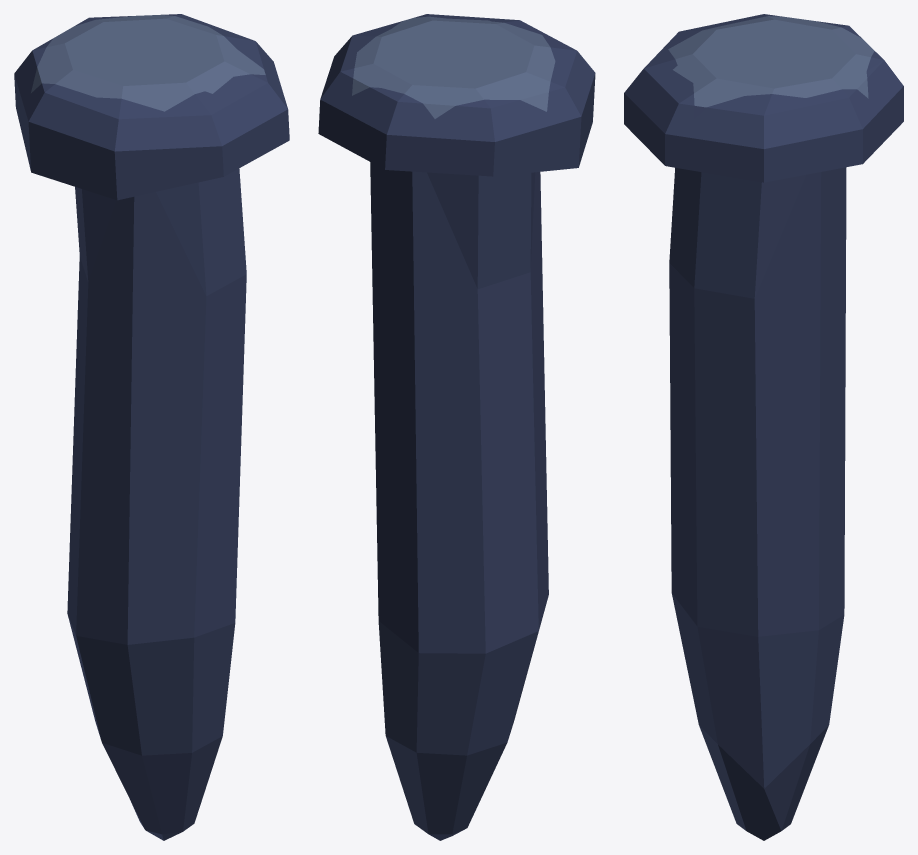
The model's file is Chilsel_02.fbx.
3 renders of one model, left to right at view 1: azimuth 30°, elevation 25°; view 2: azimuth 150°, elevation 25°; view 3: azimuth 270°, elevation 25°, orthographic. The views are drawn at different scales.
Visible parts, largest first — view 1: PoorMan StoneChisel; view 2: PoorMan StoneChisel; view 3: PoorMan StoneChisel.
Boxes of the visible parts, x1,y1,x2,y2 form: PoorMan StoneChisel: (14, 14, 289, 840); PoorMan StoneChisel: (318, 14, 595, 840); PoorMan StoneChisel: (624, 14, 903, 840).
Size of the model in its own units: 15.46 by 46.92 by 15.36.
